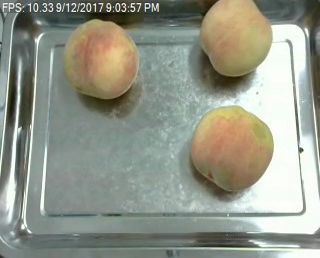Peach: (191, 103, 272, 192), (64, 18, 139, 99), (198, 0, 273, 77)
